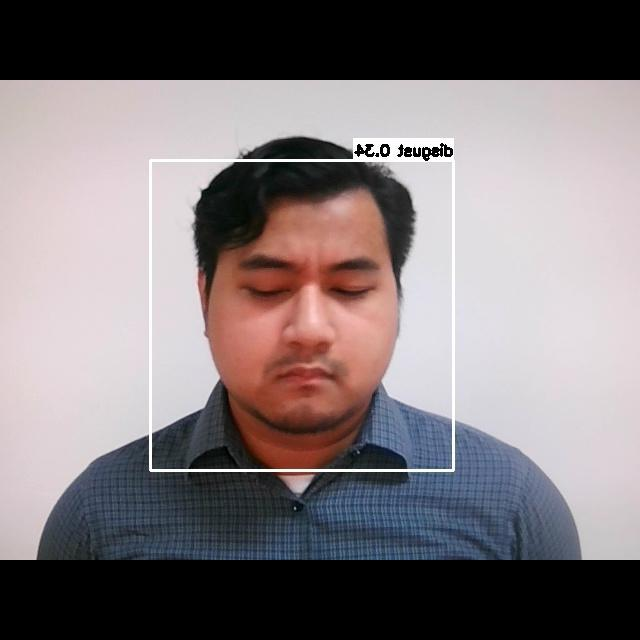Angry: (222, 232, 392, 409)
